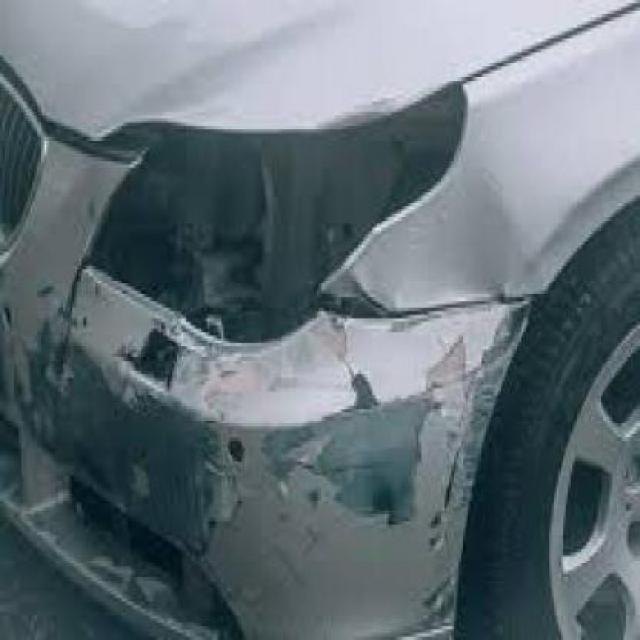damaged-front-bumper: (0, 266, 486, 636)
